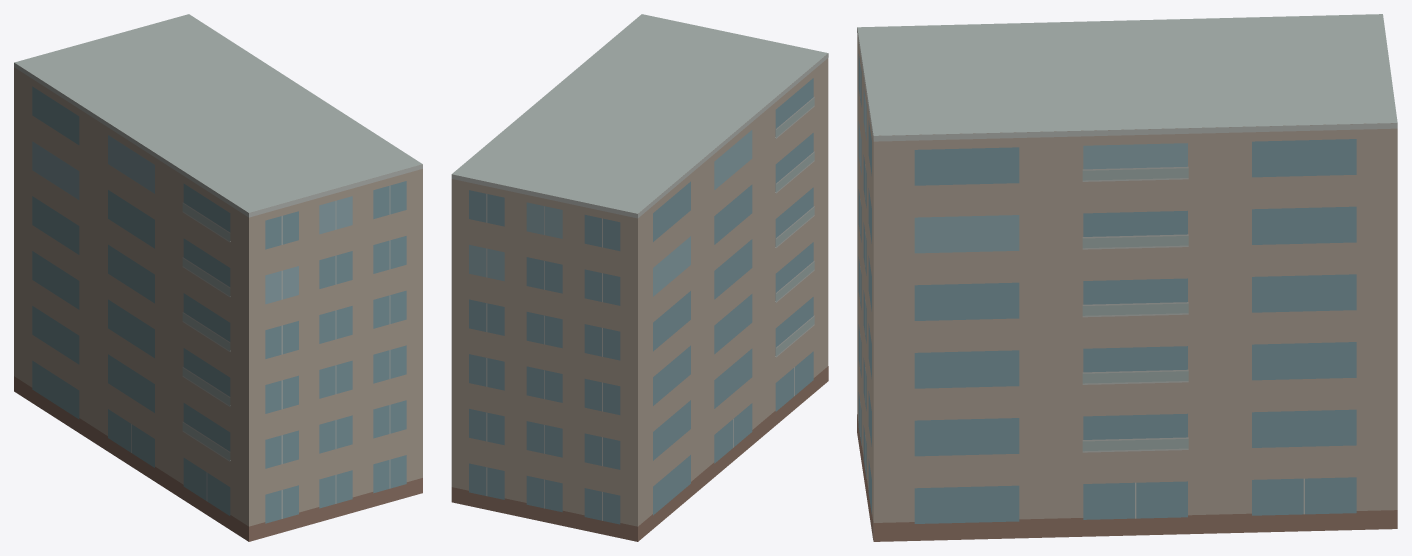
The model's file is survey-upis-32727985.glb.
3 renders of one model, left to right at view 1: azimuth 30°, elevation 25°; view 2: azimuth 150°, elevation 25°; view 3: azimuth 270°, elevation 25°, orthographic. The views are drawn at different scales.
Parts seen in each view (by area): view 1: survey-upis-32727985.tmp; view 2: survey-upis-32727985.tmp; view 3: survey-upis-32727985.tmp.
Boxes of the visible parts, x1=… form: survey-upis-32727985.tmp: x1=14, y1=14, x2=422, y2=541; survey-upis-32727985.tmp: x1=451, y1=14, x2=828, y2=541; survey-upis-32727985.tmp: x1=857, y1=14, x2=1397, y2=541.
Bounding box in the file's own units: 11.22 × 17.4 × 21.
